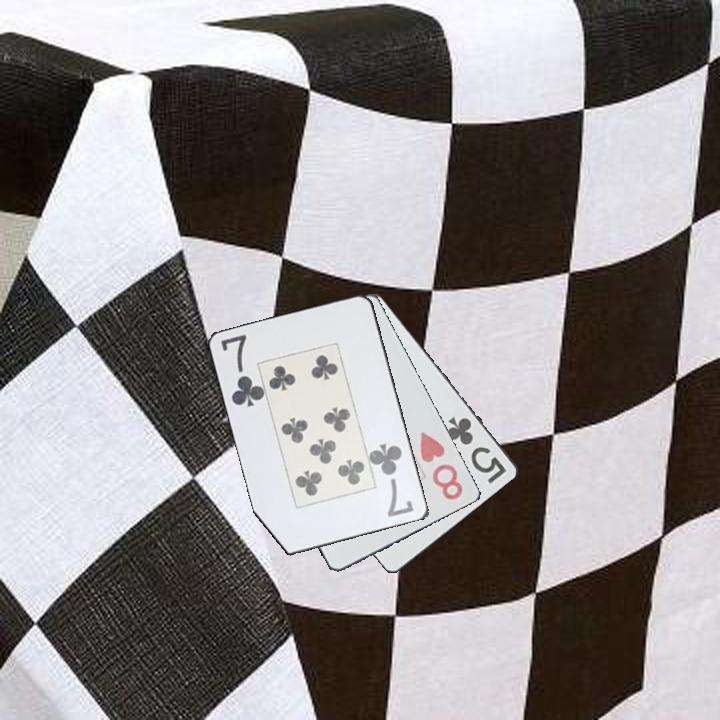5c: (443, 413, 510, 487)
7c: (217, 331, 267, 411), (369, 440, 417, 520)
8h: (414, 428, 466, 503)
